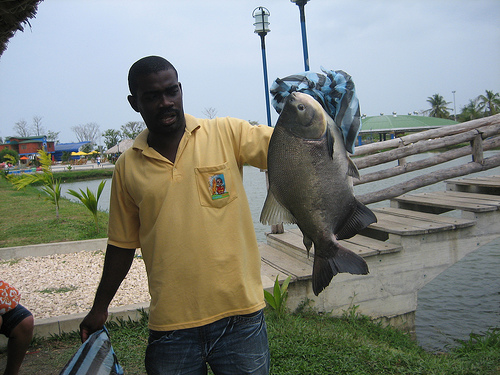fish: (258, 90, 379, 297)
